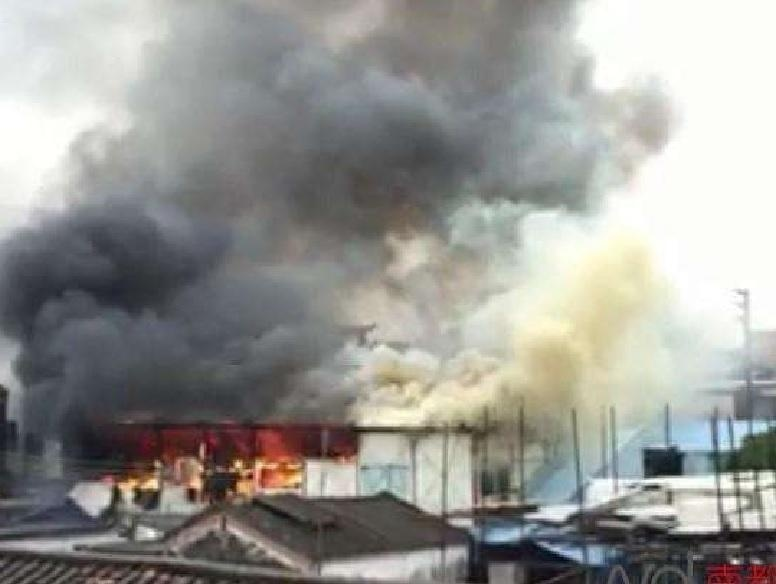fire: (97, 427, 305, 496)
